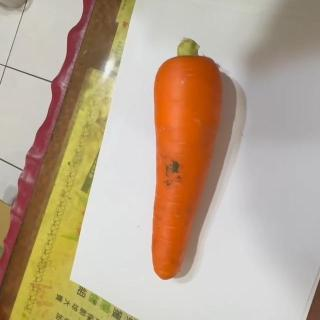carrot: (150, 38, 224, 280)
